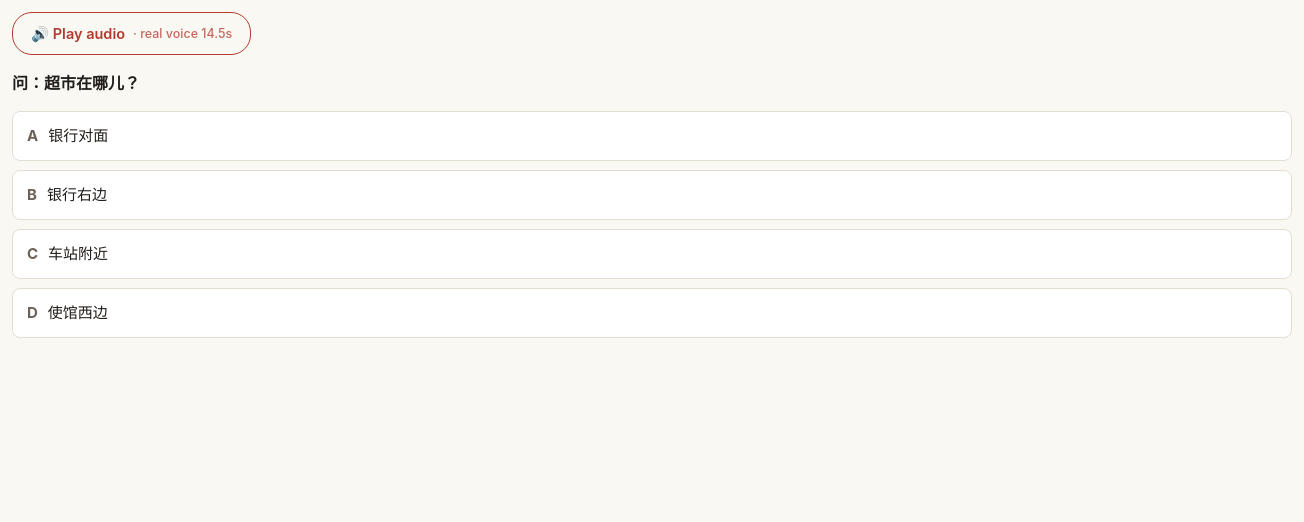
Test case: MultipleChoiceQuestionComponent › marks a wrong pick red and reveals the correct letter
Click the button with class "optbtn" showing "D 使馆西边".
click(78, 312)  # box left=12, top=288, right=1292, bottom=338
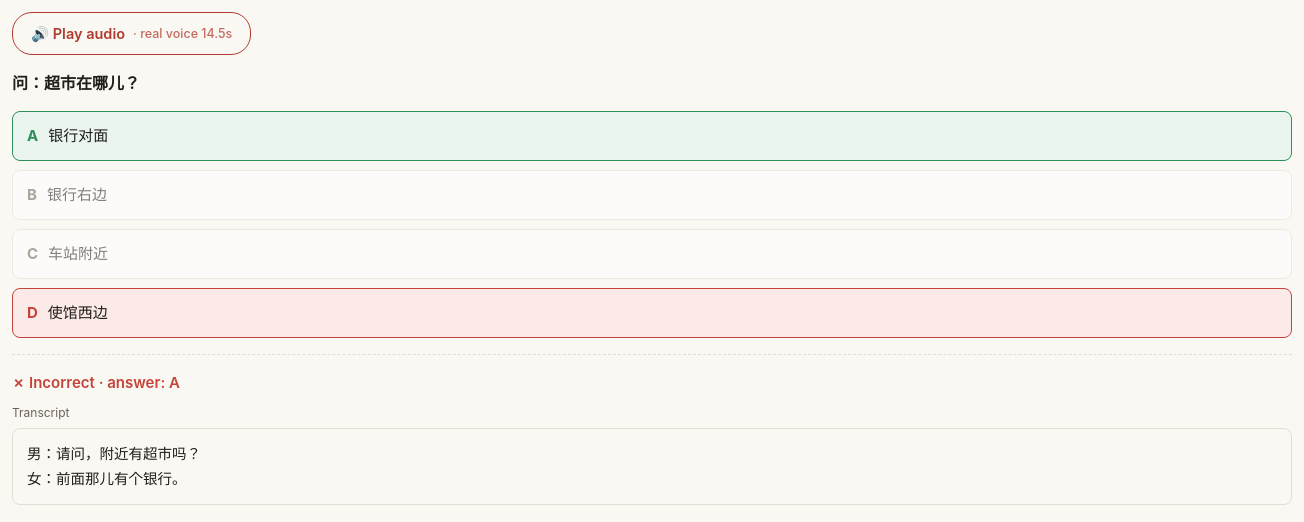
Expected: the text with class "bad" shows "answer: A", left=12, top=373, right=180, bottom=392
